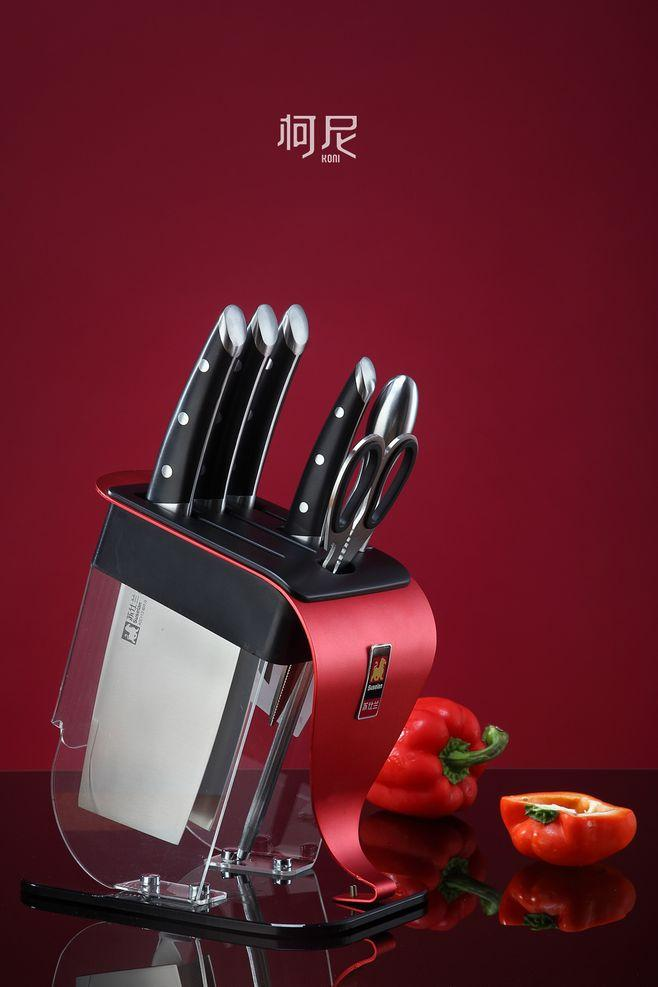knife: (48, 272, 294, 922)
